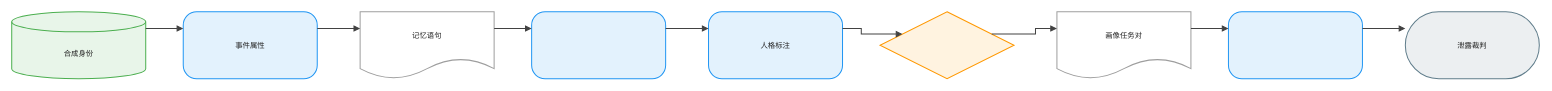
The diagram is 1552 pixels wide and 91 high, and some of its shapes have lost their labels. Here are the shapes that lost their labels. From the top down, the centre of each, then its label:
At (598,45): "49个任务场景".
At (946,45): "共识过滤".
At (1295,45): "记忆模型运行".
